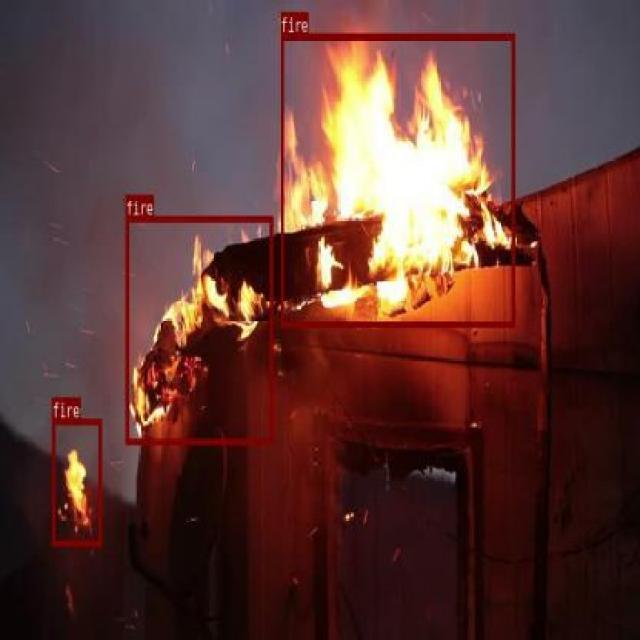fire: (280, 32, 514, 326), (125, 215, 272, 443), (50, 418, 101, 544)
